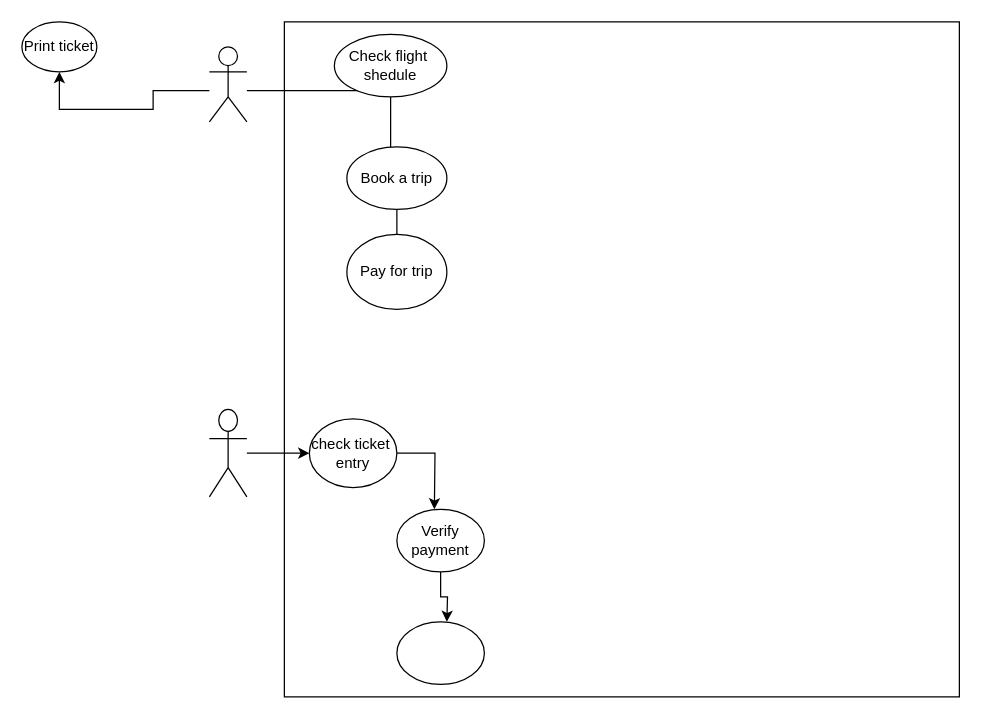
Image size: 981x719. Some labels were removed from this diagram. Here are the shapes that lost their labels. From the top down, the box of each, then its label:
(208, 46, 247, 122): Traveller
(208, 408, 247, 497): Ticket officer
(396, 621, 484, 684): verify ticket availability
